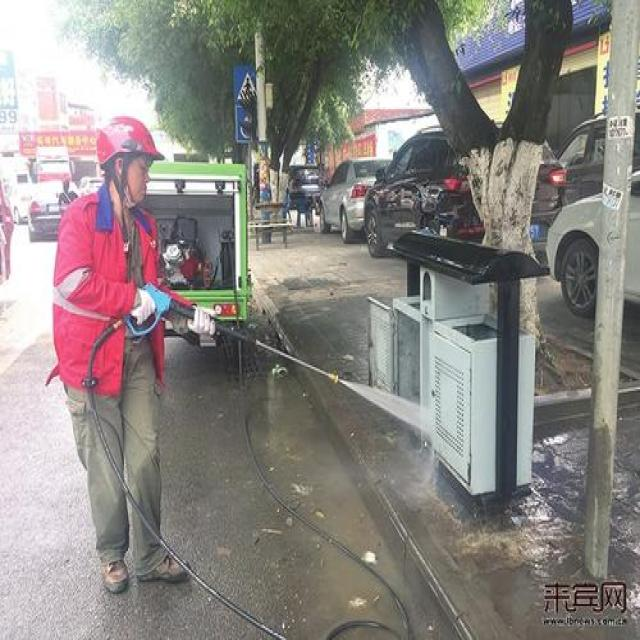garbage_bin: (366, 229, 549, 519)
